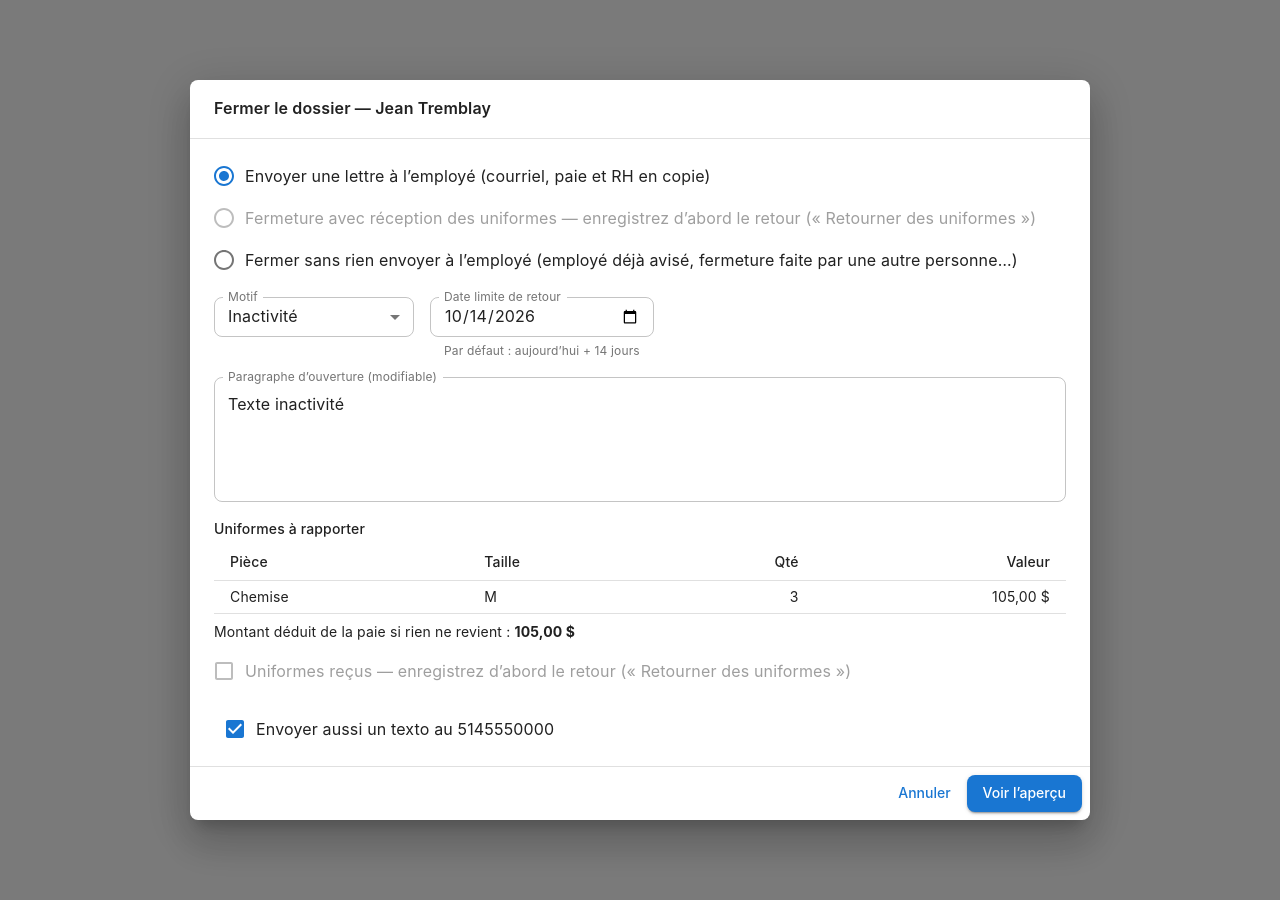
Test case: FileClosureDialog › fermeture avec réception des uniformes › lettre : le motif « Autre / inconnu » met le texte général
Click the dropdown named "Motif".
click(263, 316)  # box [228,306,298,326]
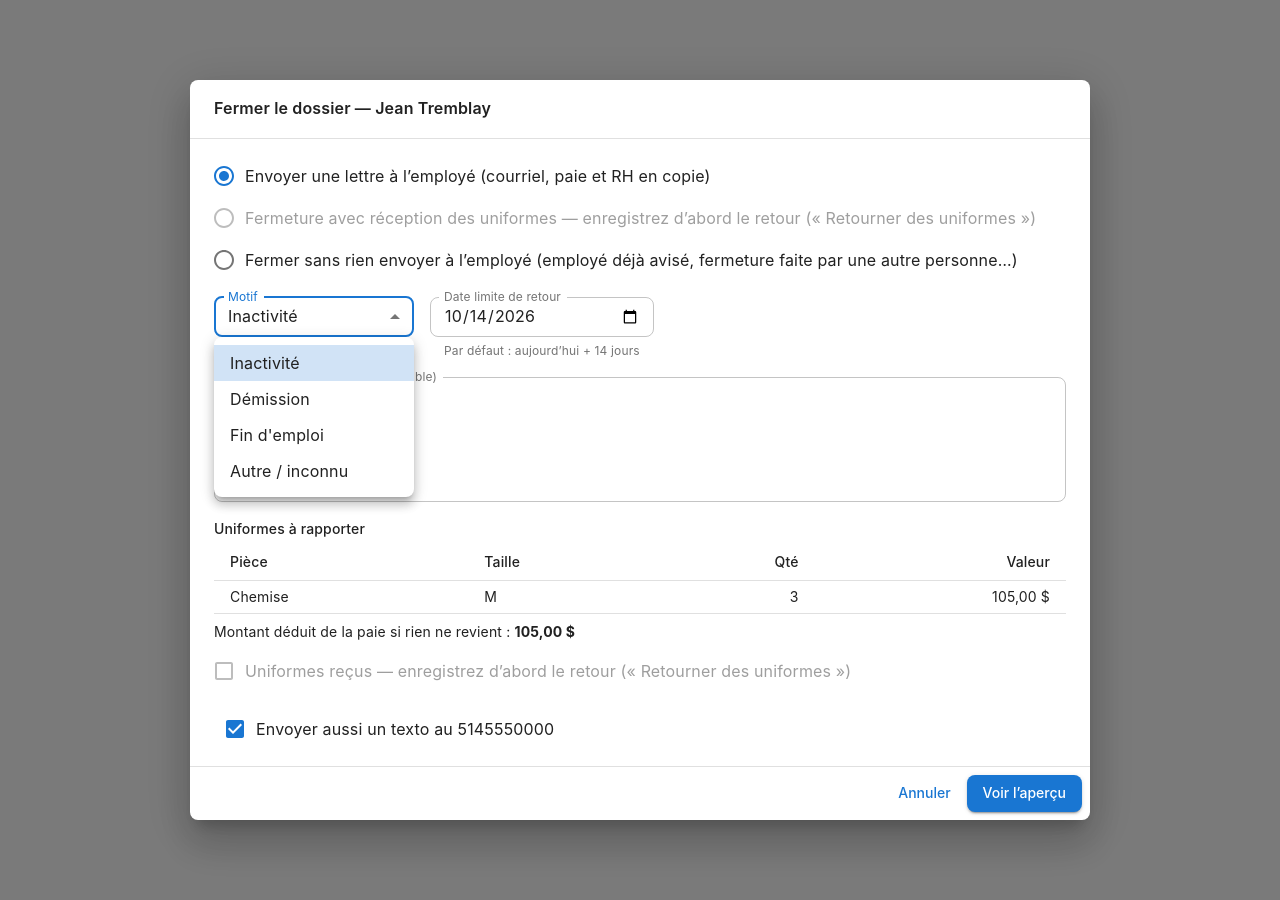
Click the option "Autre / inconnu".
click(289, 471)  # box [230,461,348,481]
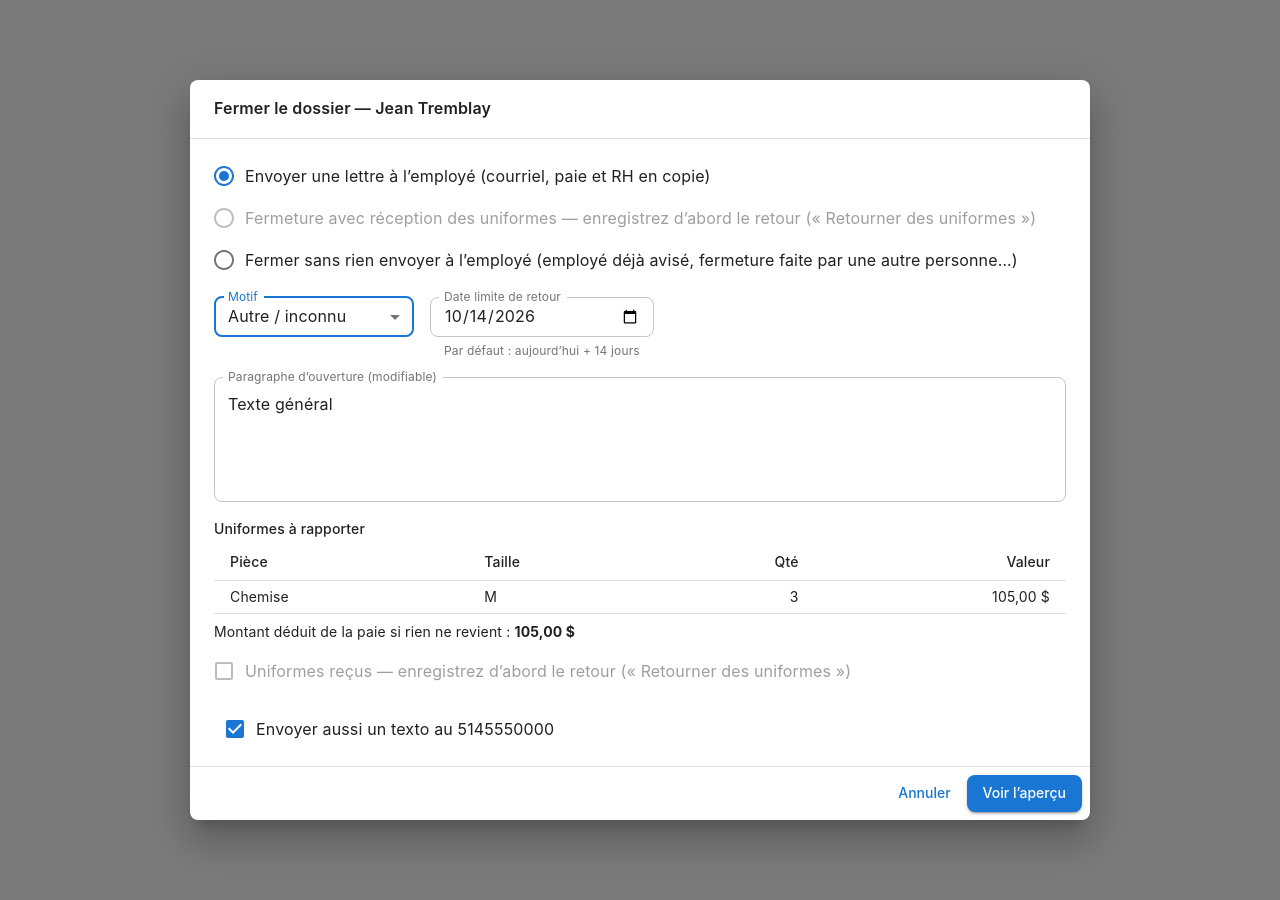
Check: the text box labelled "Paragraphe d’ouverture (modifiable)" holds "Texte général", box [228,393,1052,485]
